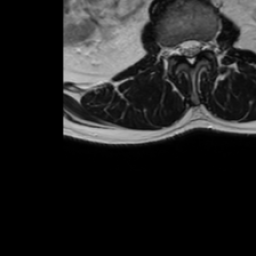CCS_normal: (185, 31, 193, 68)
LFS_normal: (201, 31, 210, 58)
LLS_normal: (193, 31, 201, 58)
RFS_normal: (169, 35, 178, 62)
RLS_normal: (177, 33, 185, 59)
